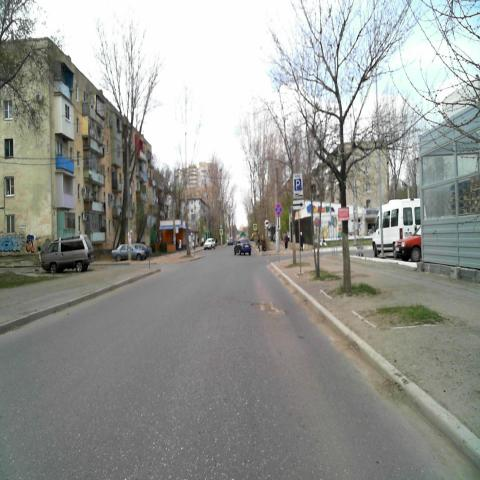8_3_1: (292, 199, 304, 209)
